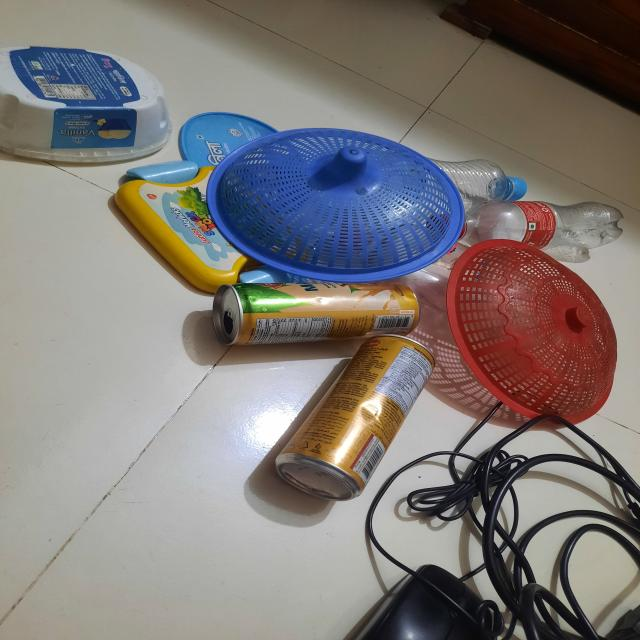Cable: (437, 406, 639, 640)
Plastics: (124, 126, 616, 258), (458, 240, 640, 433), (0, 24, 186, 157)
can: (181, 270, 433, 520)
